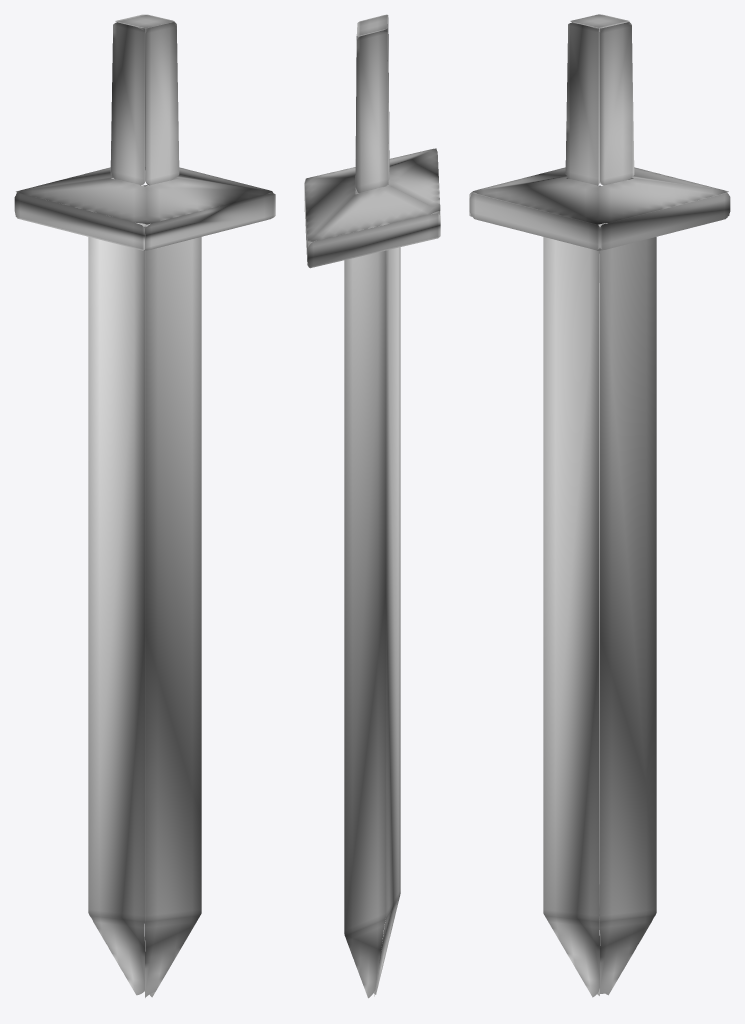
Rendered from sword.obj.
The picture shows the model from 3 angles, left to right: view 1: azimuth 90°, elevation 25°; view 2: azimuth 150°, elevation 25°; view 3: azimuth 270°, elevation 25°; orthographic projection.
Visible parts, largest first — view 1: sword; view 2: sword; view 3: sword.
Boxes of the visible parts, left/top/right/bottom form: sword: left=14, top=14, right=275, bottom=997; sword: left=304, top=14, right=440, bottom=998; sword: left=469, top=14, right=730, bottom=997.
Size of the model in its own units: 0.4279 by 2.96 by 0.7085.
